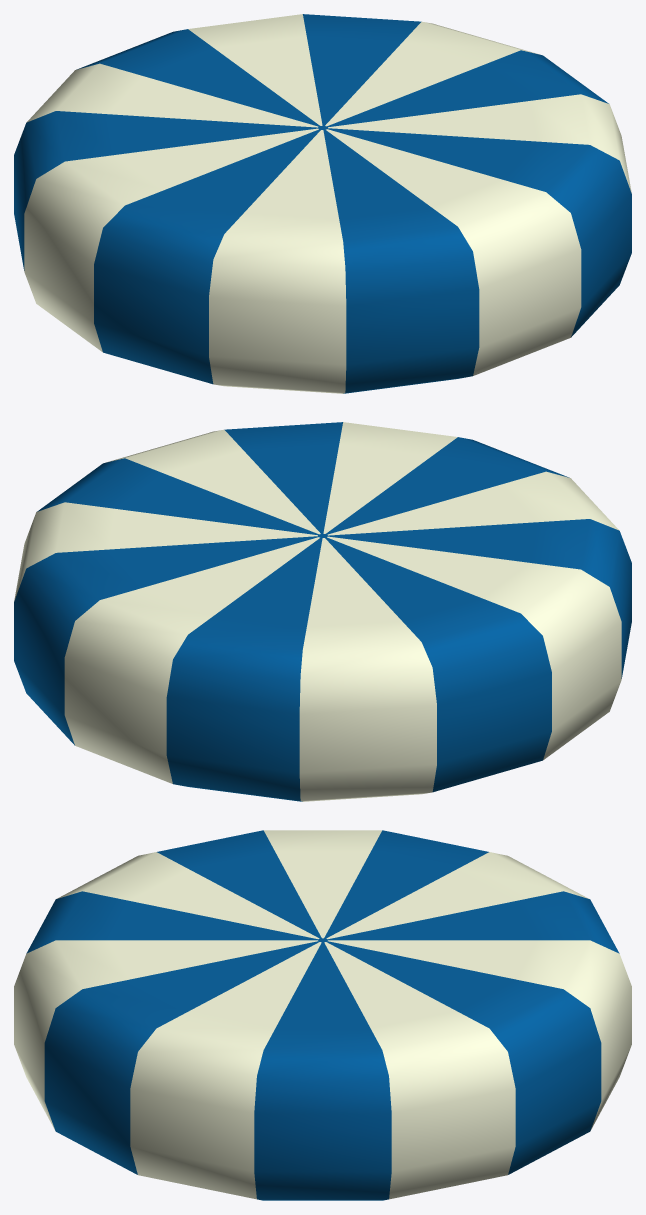
The model's file is candy_hard_9.fbx.
The picture shows the model from 3 angles, top to bottom: view 1: azimuth 30°, elevation 25°; view 2: azimuth 150°, elevation 25°; view 3: azimuth 270°, elevation 25°; orthographic projection.
Parts seen in each view (by area): view 1: c_h_9; view 2: c_h_9; view 3: c_h_9.
Boxes of the visible parts, x1,y1,x2,y2 form: c_h_9: (14, 14, 631, 393); c_h_9: (14, 422, 631, 801); c_h_9: (14, 830, 631, 1200).
Bounding box in the file's own units: 156 × 42.99 × 160.
